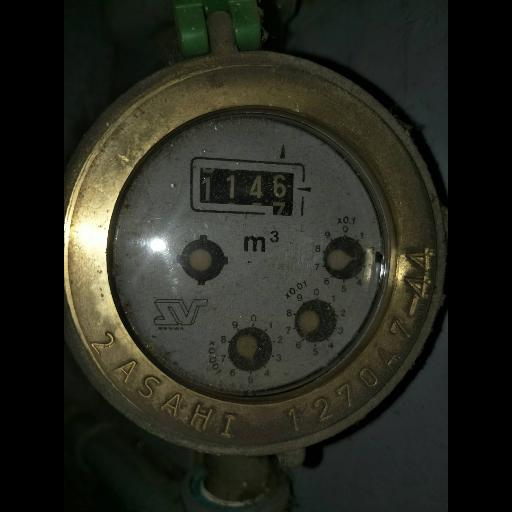1: (222, 168, 242, 204), (199, 168, 217, 204)
4: (245, 170, 269, 206)
6: (269, 172, 292, 216)
border_water_meter_number: (189, 156, 312, 216)
